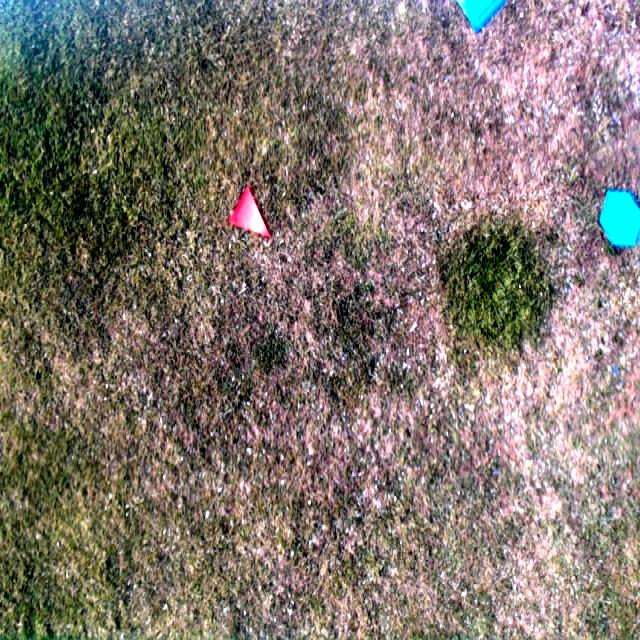blue_hexagon: (599, 192, 640, 247)
red_triangle: (230, 187, 272, 242)
